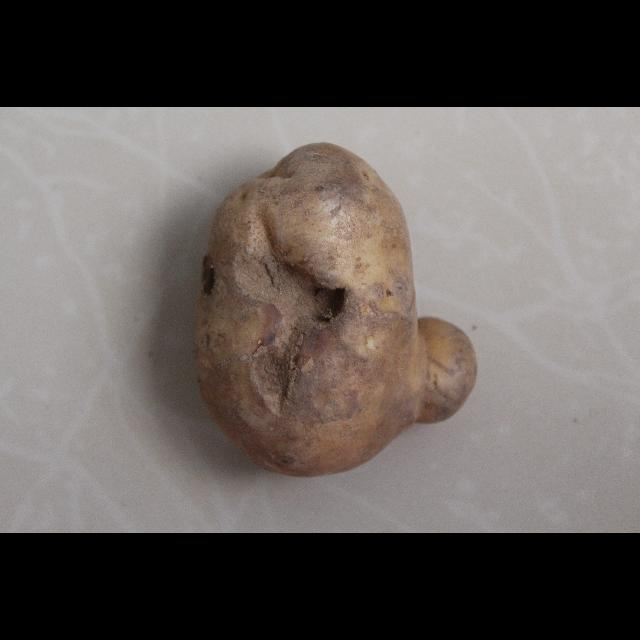Diseased-fungal potato: (188, 140, 480, 478)
